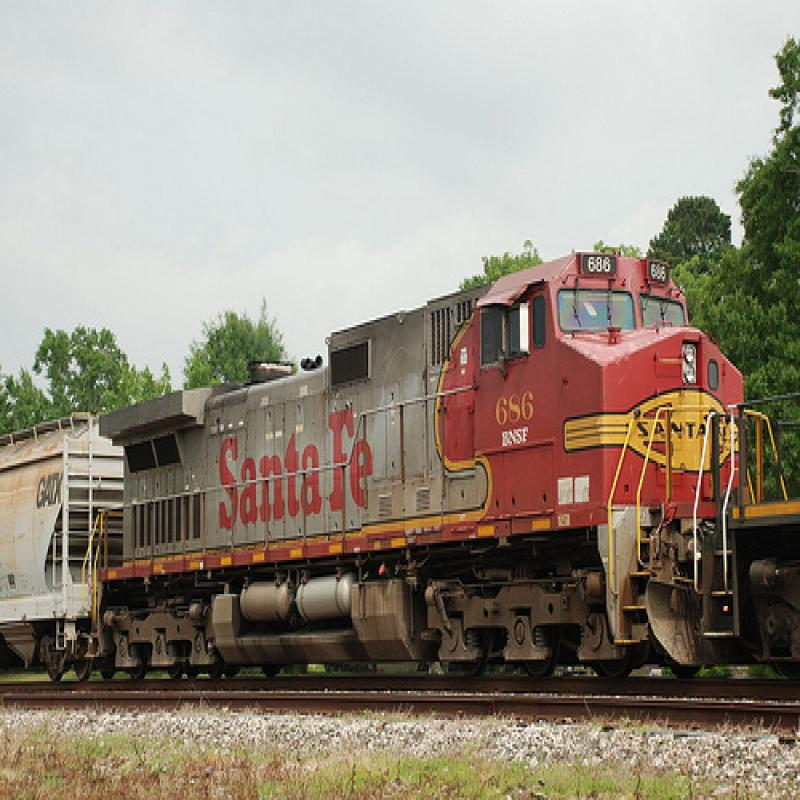train: (2, 250, 800, 689)
